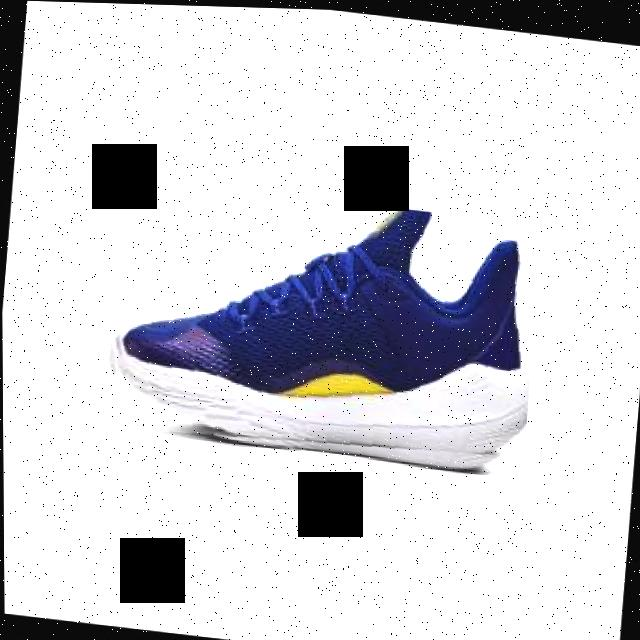shoe: (100, 174, 543, 473)
